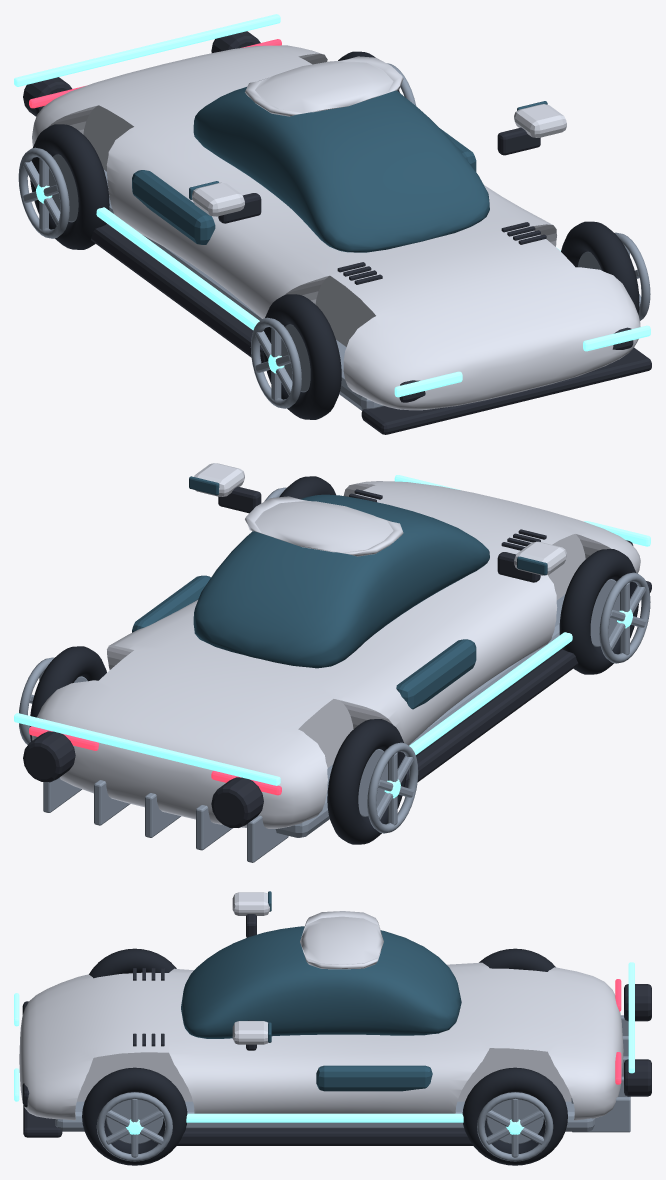
File: Apex.fbx
The picture shows the model from 3 angles, top to bottom: view 1: azimuth 30°, elevation 25°; view 2: azimuth 150°, elevation 25°; view 3: azimuth 270°, elevation 25°; orthographic projection. The views are drawn at different scales.
Parts seen in each view (by area): view 1: Body_Apex, Glass_Cockpit, Body_Roof, Wheel_LFront, Wheel_LRear, Carbon_SideSkirt, Carbon_FrontSplitter, Glass_SideIntake, Wheel_RFront, Trim_RearLightBar, Trim_Sill, WheelRim_LFront (+13 smaller); view 2: Body_Apex, Glass_Cockpit, Body_Roof, Wheel_LRear, Wheel_LFront, Carbon_SideSkirt, Trim_RearLightBar, Glass_SideIntake, Trim_Sill, Wheel_RRear, Exhaust_Nozzle, Exhaust_Nozzle.001 (+17 smaller); view 3: Body_Apex, Glass_Cockpit, Carbon_SideSkirt.001, Wheel_RFront, Wheel_RRear, Body_Roof, Body_Undertray, Glass_SideIntake.001, Trim_Sill.001, Wheel_LFront, WheelRim_RRear, WheelRim_RFront (+10 smaller).
Boxes of the visible parts, bbox=[...] form: Body_Apex: bbox=[32, 45, 640, 410]; Glass_Cockpit: bbox=[193, 87, 489, 252]; Body_Roof: bbox=[245, 56, 403, 116]; Wheel_LFront: bbox=[262, 294, 341, 419]; Wheel_LRear: bbox=[30, 124, 109, 249]; Carbon_SideSkirt: bbox=[91, 224, 264, 363]; Carbon_FrontSplitter: bbox=[361, 347, 651, 434]; Glass_SideIntake: bbox=[132, 170, 215, 244]; Wheel_RFront: bbox=[561, 221, 639, 314]; Trim_RearLightBar: bbox=[14, 14, 280, 86]; Trim_Sill: bbox=[96, 207, 259, 330]; WheelRim_LFront: bbox=[250, 317, 301, 408]; Body_Apex: bbox=[32, 481, 640, 828]; Glass_Cockpit: bbox=[193, 494, 489, 668]; Body_Roof: bbox=[245, 496, 403, 556]; Wheel_LRear: bbox=[327, 719, 406, 844]; Wheel_LFront: bbox=[559, 549, 638, 674]; Carbon_SideSkirt: bbox=[404, 648, 578, 787]; Trim_RearLightBar: bbox=[14, 713, 280, 785]; Glass_SideIntake: bbox=[396, 639, 476, 709]; Trim_Sill: bbox=[409, 632, 572, 754]; Wheel_RRear: bbox=[29, 646, 106, 741]; Exhaust_Nozzle: bbox=[211, 777, 263, 827]; Exhaust_Nozzle.001: bbox=[23, 731, 75, 782]; Body_Apex: bbox=[19, 962, 623, 1120]; Glass_Cockpit: bbox=[181, 926, 461, 1038]; Carbon_SideSkirt.001: bbox=[177, 1128, 472, 1145]; Wheel_RFront: bbox=[82, 1067, 187, 1165]; Wheel_RRear: bbox=[462, 1067, 567, 1165]; Body_Roof: bbox=[300, 911, 383, 969]; Body_Undertray: bbox=[55, 1101, 594, 1131]; Glass_SideIntake.001: bbox=[316, 1065, 432, 1091]; Trim_Sill.001: bbox=[186, 1113, 463, 1122]; Wheel_LFront: bbox=[89, 948, 176, 978]; WheelRim_RRear: bbox=[477, 1092, 553, 1161]; WheelRim_RFront: bbox=[96, 1092, 172, 1161].
Bounding box in the file's own units: 218 × 122 × 411.
